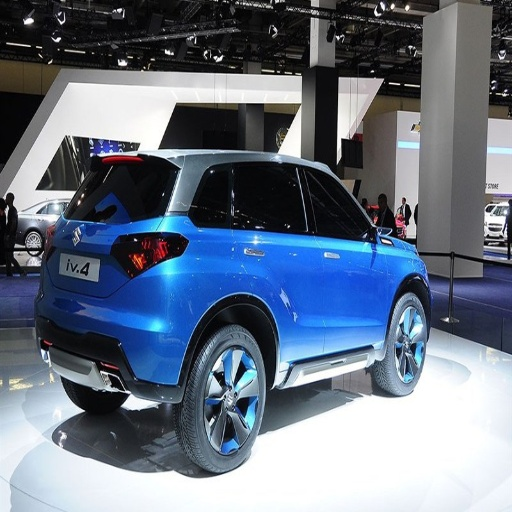back_bumper: (34, 260, 200, 403)
back_right_door: (230, 163, 325, 358)
trunk: (50, 220, 144, 297), (116, 78, 179, 121)
